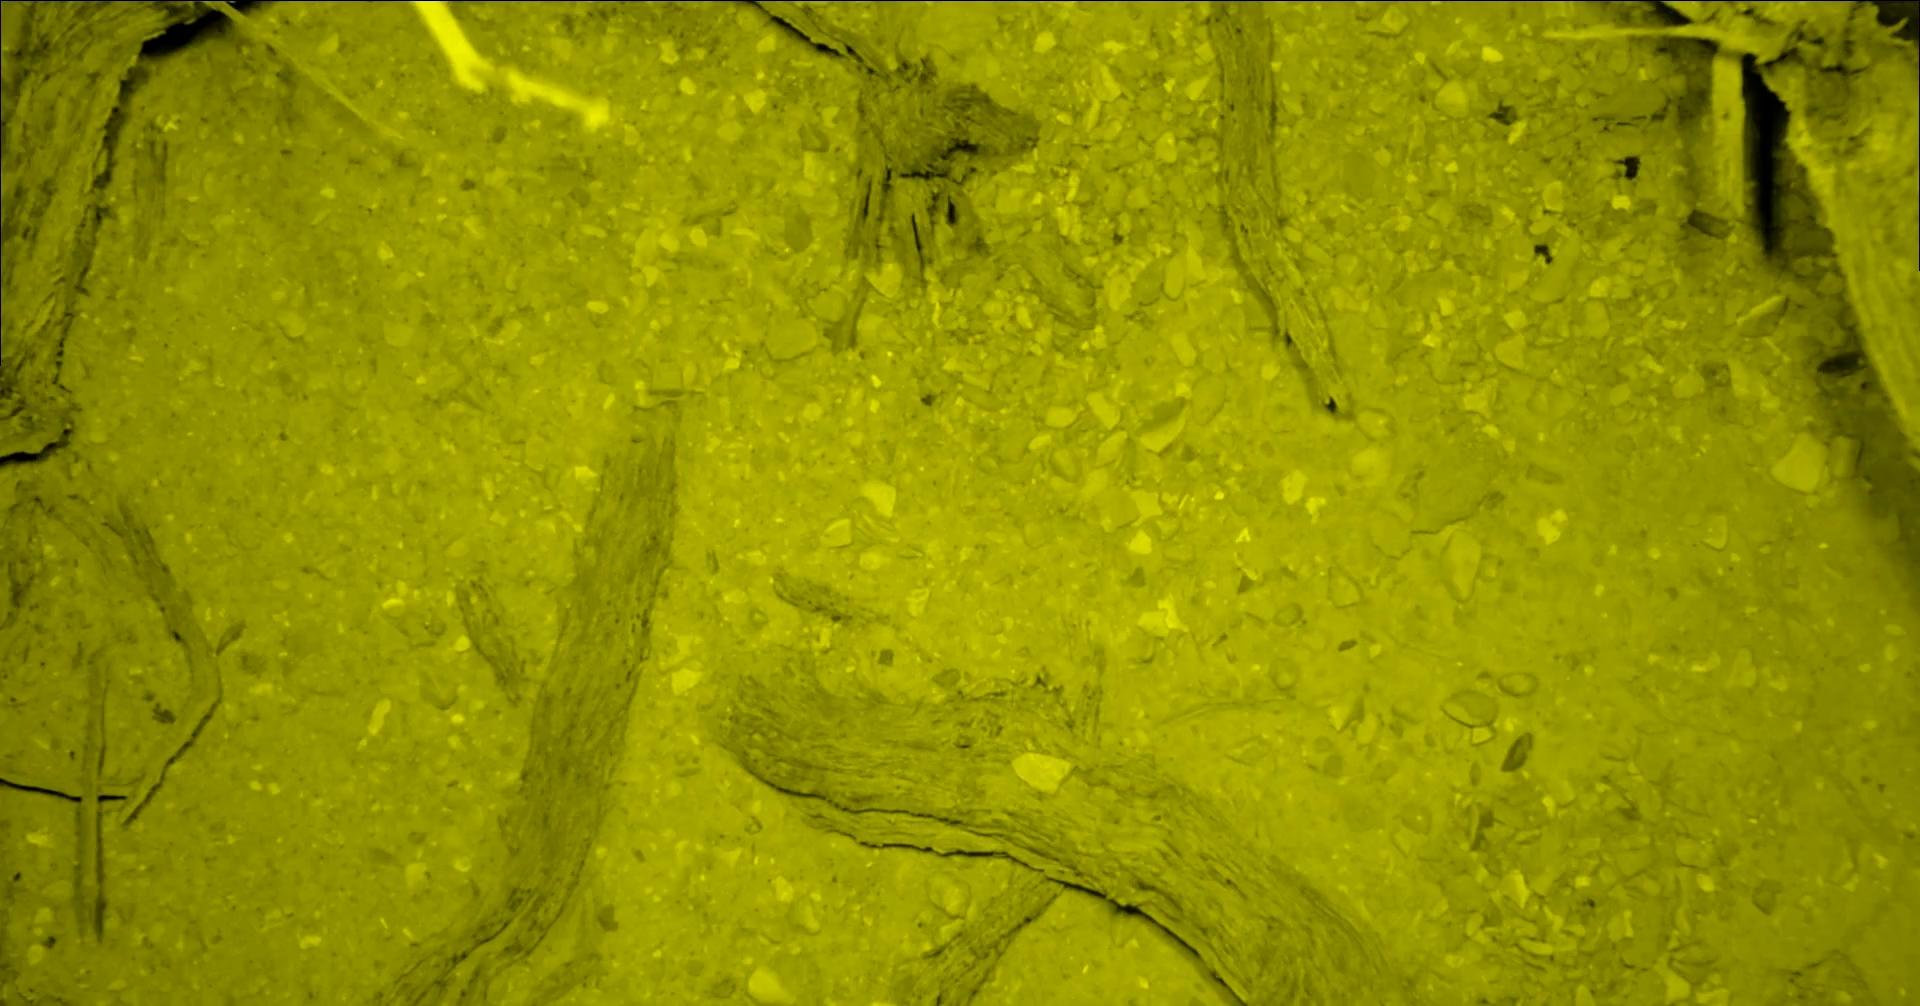ant: (0, 0, 69, 3)
